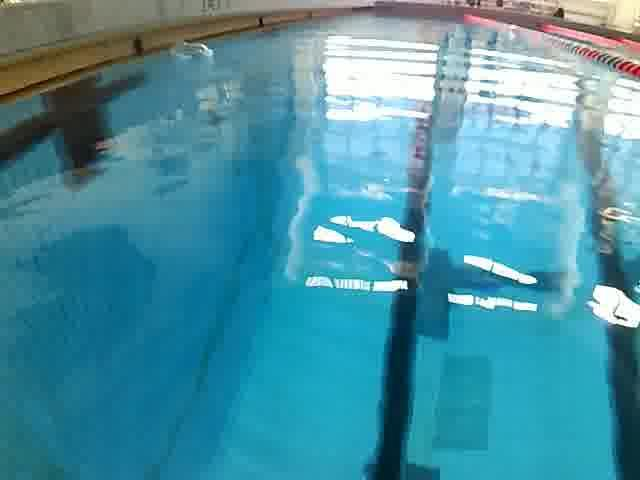Bottle: (168, 39, 218, 61)
